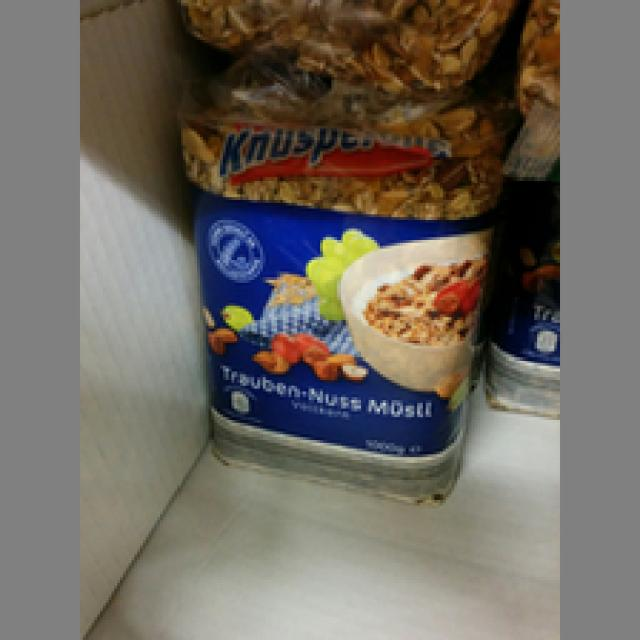groceries: (172, 106, 494, 506)
